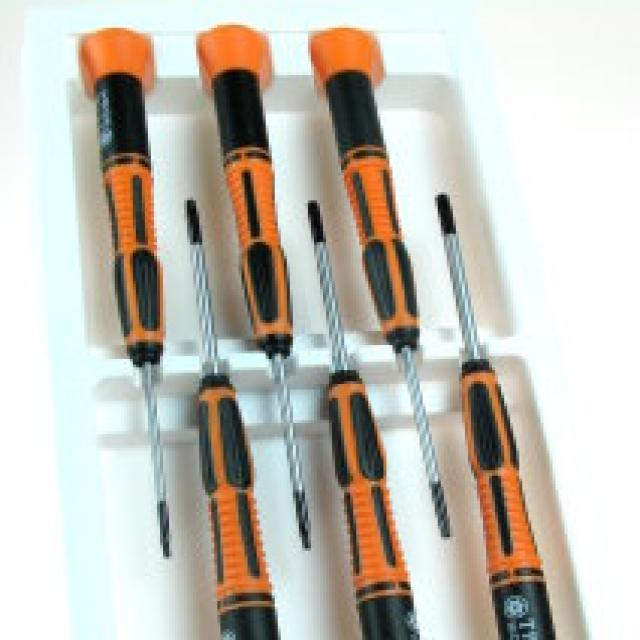screwdriver: (304, 21, 462, 555), (187, 19, 324, 555), (60, 18, 184, 570), (288, 181, 435, 640), (420, 183, 552, 640), (156, 190, 282, 640)
